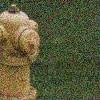a fire hydrant: (0, 4, 40, 100)
